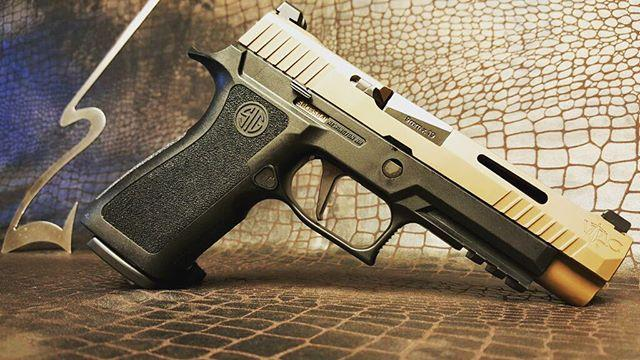handgun: (75, 0, 635, 308)
